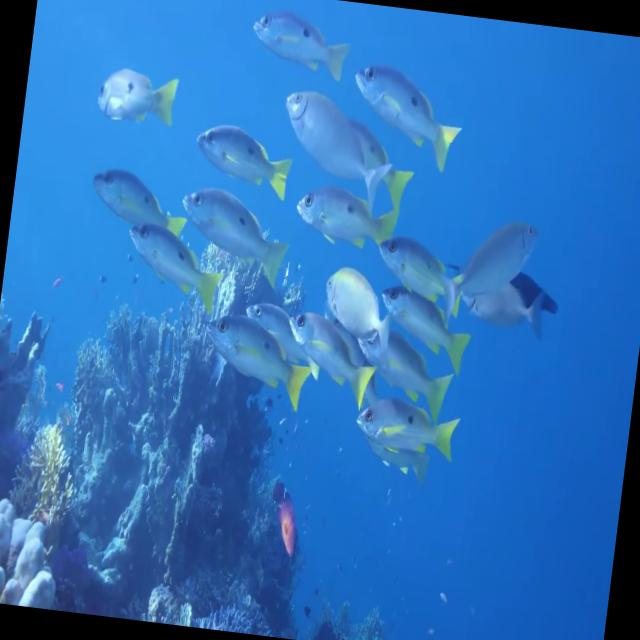fish: (258, 86, 402, 207), (344, 49, 472, 174), (192, 293, 310, 421), (433, 205, 542, 338), (275, 161, 407, 265), (340, 388, 470, 492), (166, 180, 296, 279), (268, 292, 374, 411), (80, 153, 200, 247), (116, 218, 237, 306), (178, 118, 298, 206), (353, 306, 465, 399), (364, 282, 476, 374), (361, 220, 475, 308), (303, 238, 407, 331), (234, 0, 355, 79), (88, 46, 184, 136), (228, 277, 328, 345)
